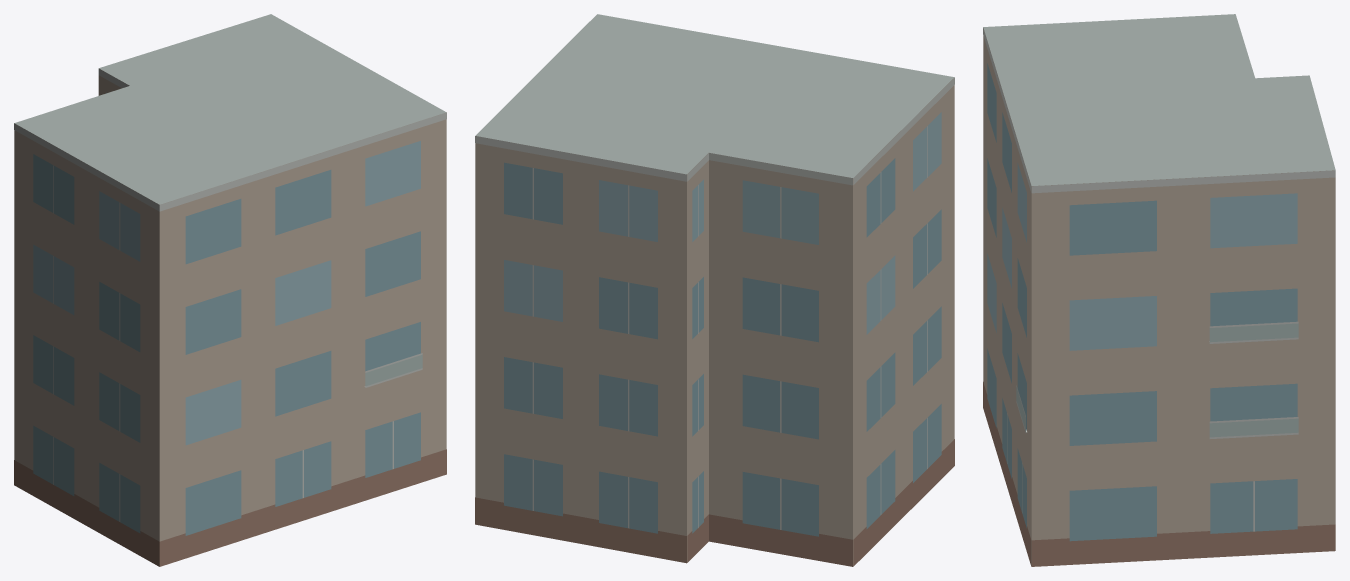
The model's file is survey-upis-32549635.glb.
3 views of the same model, side by side, from view 1: azimuth 30°, elevation 25°; view 2: azimuth 150°, elevation 25°; view 3: azimuth 270°, elevation 25° (orthographic). The views are drawn at different scales.
Parts seen in each view (by area): view 1: survey-upis-32549635.tmp; view 2: survey-upis-32549635.tmp; view 3: survey-upis-32549635.tmp.
Part boxes in pixels (box(x1,y1,x2,y2)): survey-upis-32549635.tmp: box(14, 14, 446, 566); survey-upis-32549635.tmp: box(475, 14, 954, 566); survey-upis-32549635.tmp: box(983, 14, 1335, 566).
Size of the model in its own units: 12.52 by 12.9 by 10.84.
